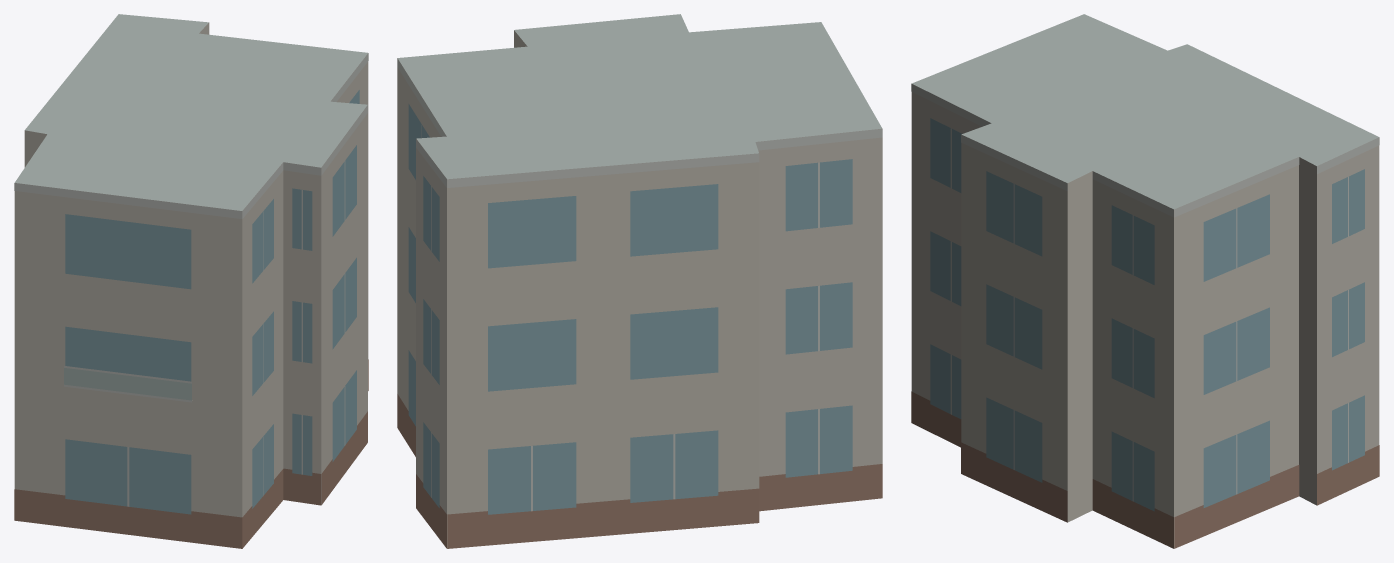
Rendered from survey-upis-32911388.glb.
3 renders of one model, left to right at view 1: azimuth 30°, elevation 25°; view 2: azimuth 150°, elevation 25°; view 3: azimuth 270°, elevation 25°, orthographic. The views are drawn at different scales.
Visible parts, largest first — view 1: survey-upis-32911388.tmp; view 2: survey-upis-32911388.tmp; view 3: survey-upis-32911388.tmp.
Boxes of the visible parts, x1,y1,x2,y2 form: survey-upis-32911388.tmp: (14,14,368,548); survey-upis-32911388.tmp: (397,14,882,548); survey-upis-32911388.tmp: (911,14,1379,548).
Size of the model in its own units: 12.61 by 10.2 by 12.75.
